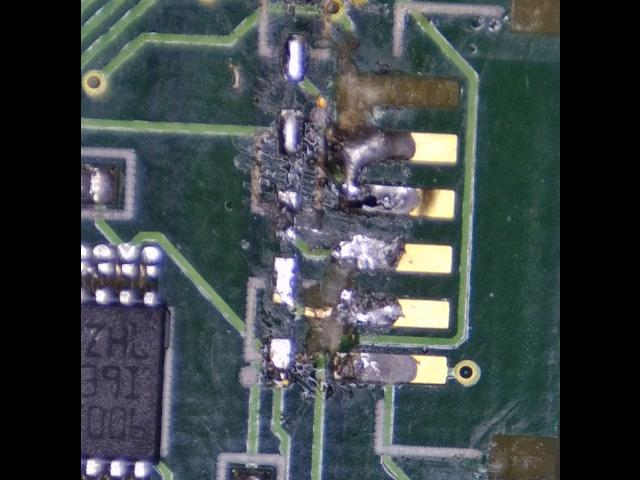Short_circuit: (339, 128, 457, 219)
